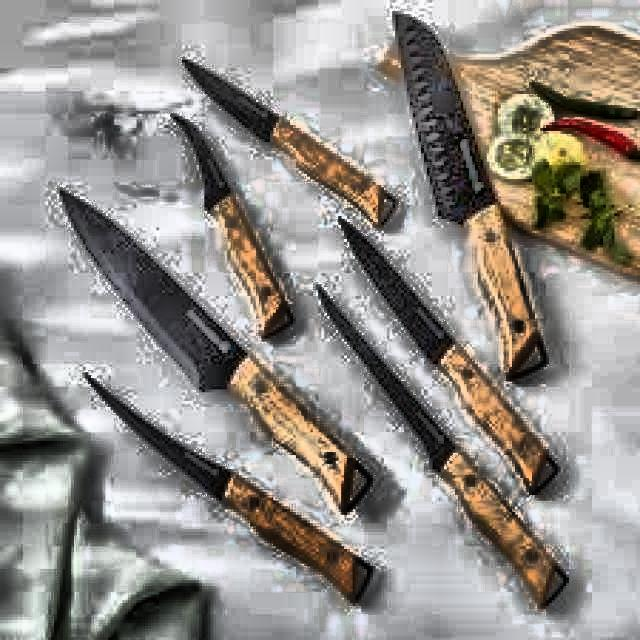knife: (54, 181, 382, 521), (306, 281, 576, 620), (75, 358, 386, 618), (334, 206, 568, 498), (386, 8, 561, 381), (386, 6, 562, 374), (177, 45, 412, 231), (167, 98, 307, 337)
